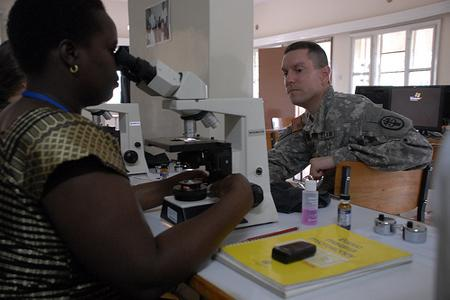person: (2, 1, 254, 299)
